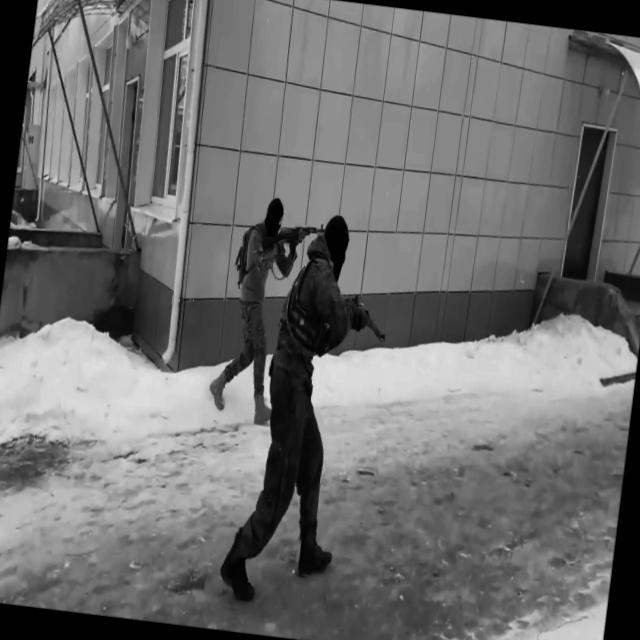gun: (256, 215, 328, 285), (334, 286, 394, 344)
person with a gun: (215, 205, 402, 616), (205, 192, 329, 432)
